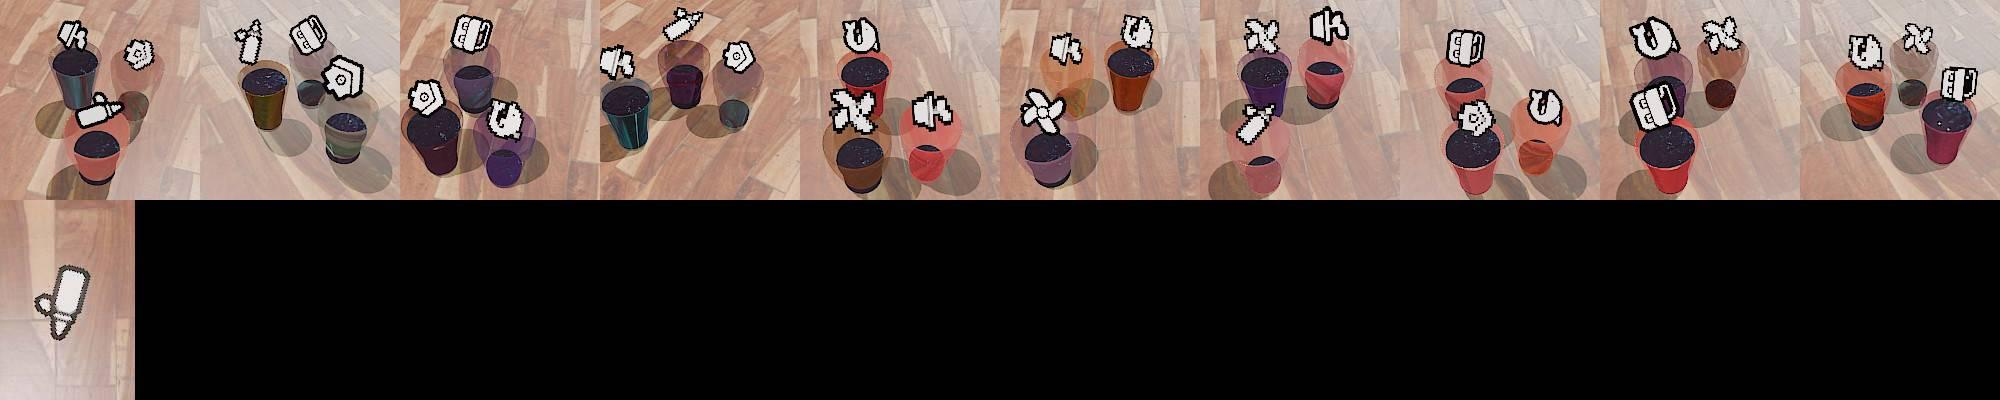icon: (31, 262, 92, 341), (1629, 79, 1686, 134), (1019, 87, 1066, 136), (829, 85, 876, 134), (1628, 17, 1679, 61), (320, 54, 365, 101), (74, 90, 126, 129), (909, 90, 954, 131), (1309, 5, 1349, 47), (1454, 97, 1497, 136), (1236, 101, 1276, 144), (290, 14, 328, 57), (1445, 28, 1486, 68), (408, 76, 448, 116), (1702, 17, 1741, 56), (486, 97, 524, 138), (662, 5, 704, 42), (1940, 65, 1980, 103), (841, 17, 880, 55), (453, 14, 491, 54), (1527, 87, 1564, 127), (1847, 32, 1884, 71), (1242, 18, 1281, 55), (233, 19, 263, 66), (599, 45, 636, 80), (1047, 31, 1084, 66), (721, 39, 756, 74), (1901, 22, 1934, 55), (122, 38, 154, 73), (57, 19, 89, 51), (1124, 14, 1153, 48)
